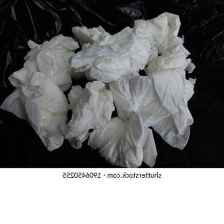tissue: (0, 6, 206, 167)
